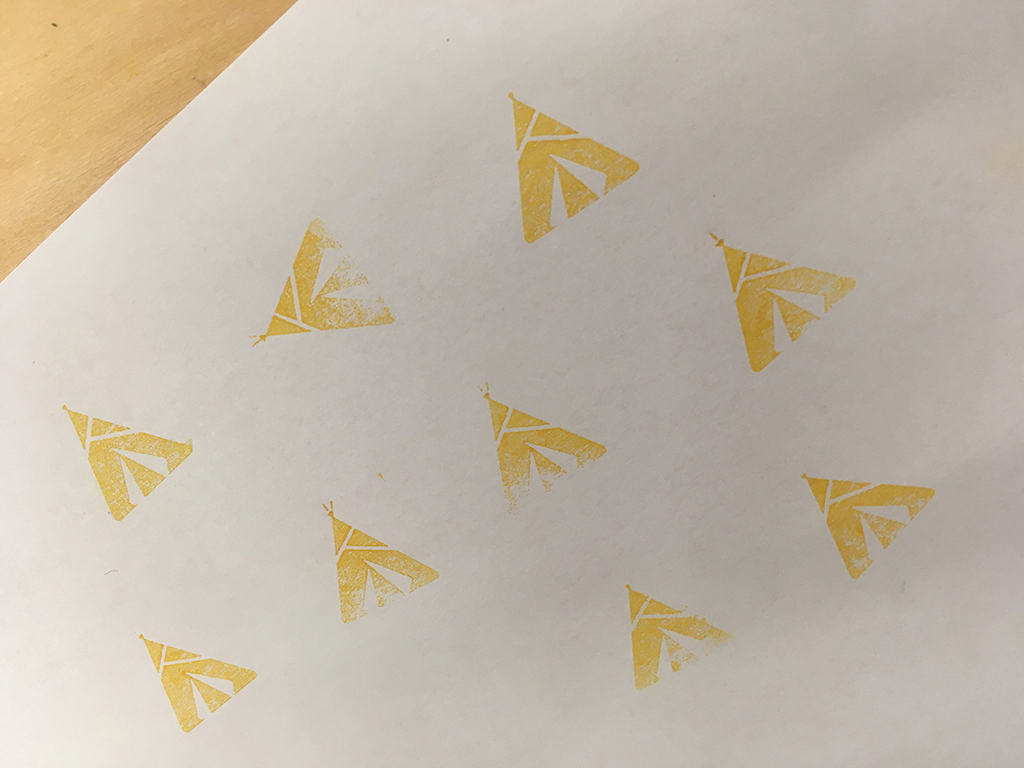tent: (704, 229, 866, 385), (501, 85, 645, 246), (246, 212, 407, 355), (468, 376, 612, 526), (52, 389, 201, 529), (794, 469, 939, 592), (316, 499, 446, 630), (128, 625, 266, 739), (620, 576, 745, 700)
